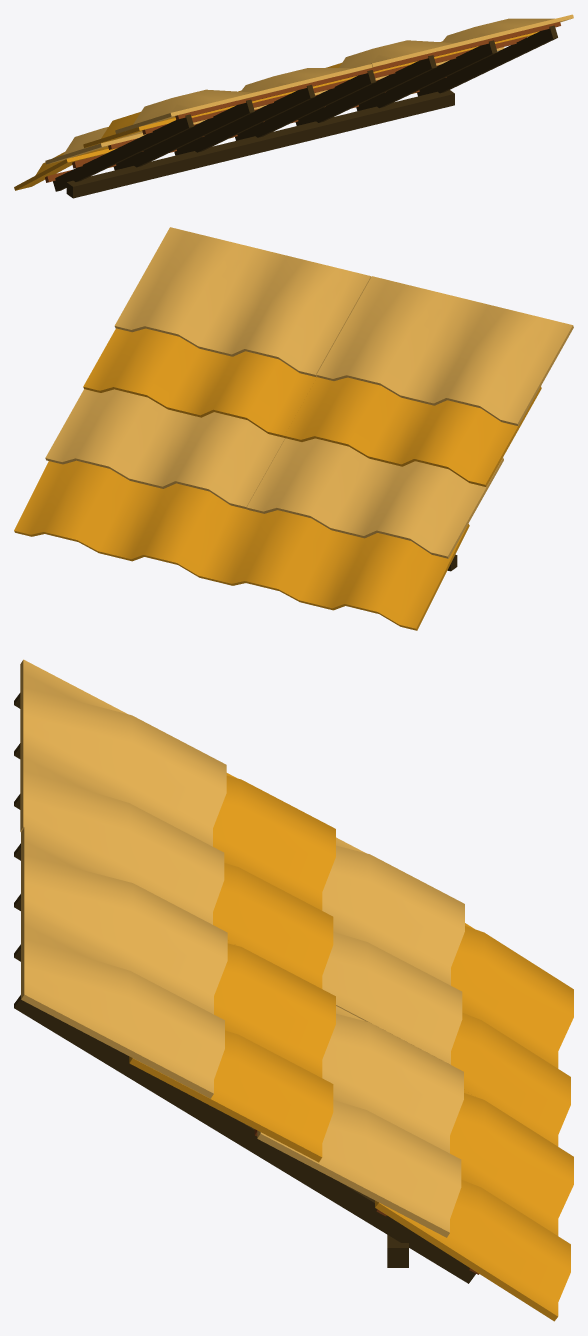
File: krovni pokrivac.FBX
The picture shows the model from 3 angles, top to bottom: view 1: azimuth 30°, elevation 25°; view 2: azimuth 150°, elevation 25°; view 3: azimuth 270°, elevation 25°; orthographic projection. The views are drawn at different scales.
Visible parts, largest first — view 1: Box593, Box591, Box592, Box590; view 2: Box591, Box590; view 3: Box591, Box590, Box593.
Boxes of the visible parts, <box> form: Box593: <box>53,25,557,198</box>; Box591: <box>45,14,573,164</box>; Box592: <box>45,22,560,182</box>; Box590: <box>14,31,539,190</box>; Box591: <box>45,227,573,558</box>; Box590: <box>14,328,541,630</box>; Box591: <box>20,659,464,1237</box>; Box590: <box>129,773,573,1321</box>; Box593: <box>14,693,475,1283</box>.
Size of the model in its own units: 362 by 165 by 256.
